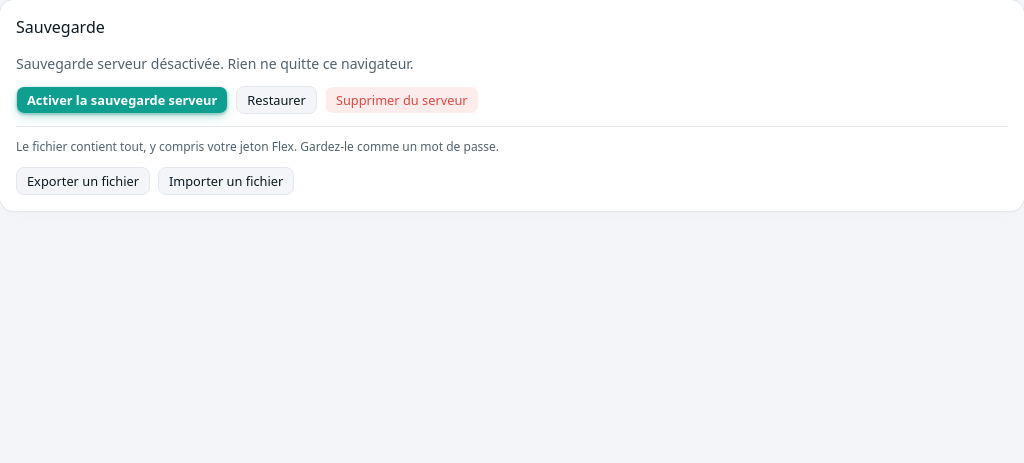
Scenario: BackupCard › gèle les autres boutons de la carte tant qu'un formulaire est ouvert
This screenshot has width=1024, height=463.
Click the button "Activer la sauvegarde serveur": (122, 100) [16,86,228,114]
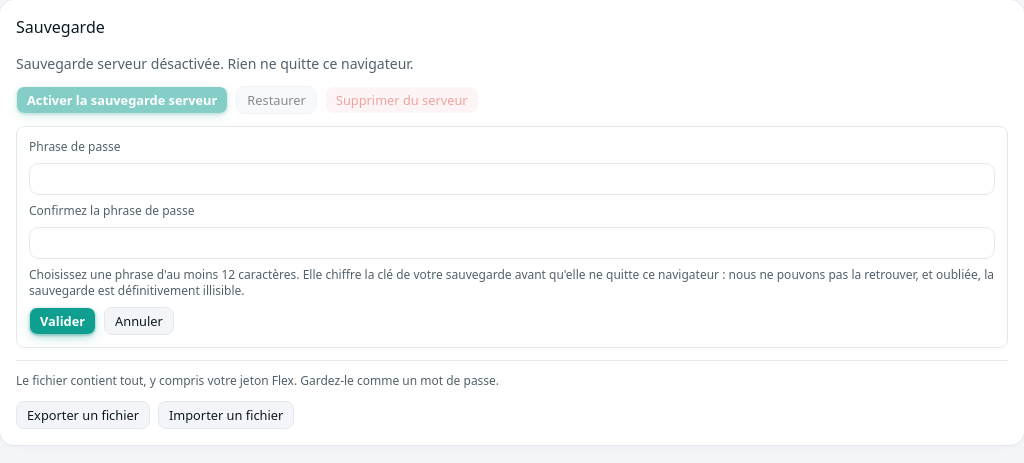
Expected: the button "Activer la sauvegarde serveur" is disabled, [16,86,228,114]
Expected: the button "Restaurer" is disabled, [236,86,317,114]
Expected: the button "Supprimer du serveur" is disabled, [325,86,479,114]
Click the button "Annuler": (139, 321) [104,307,174,335]
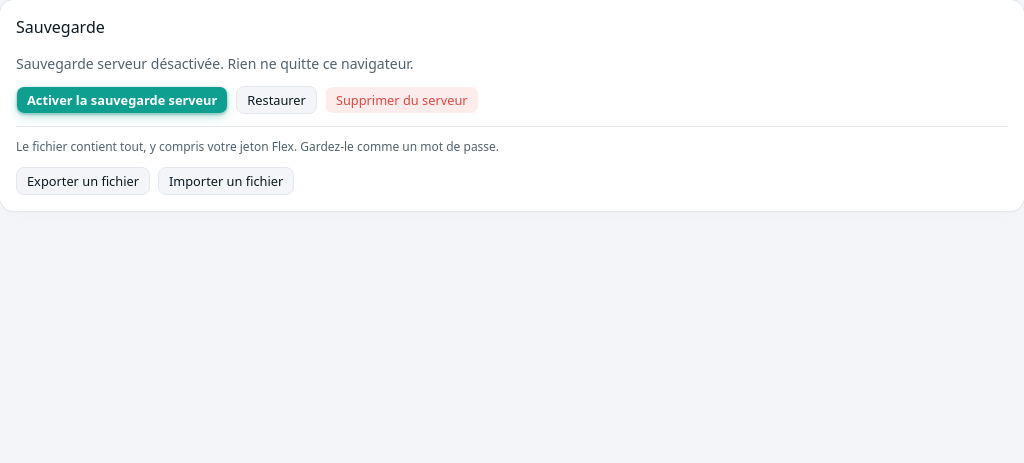
Expected: the button "Restaurer" is enabled, [236,86,317,114]
